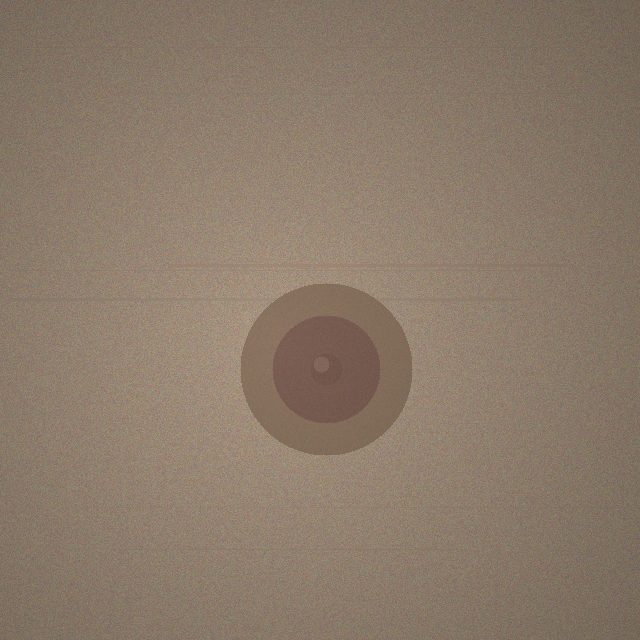good: (240, 283, 412, 455)
